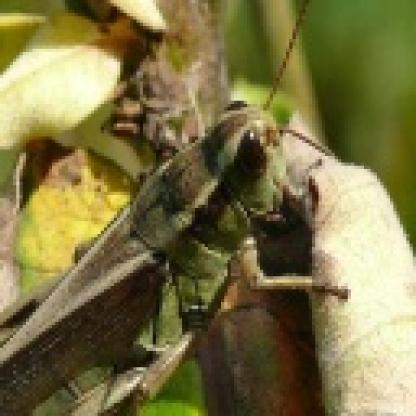grasshopper: (0, 72, 356, 416)
